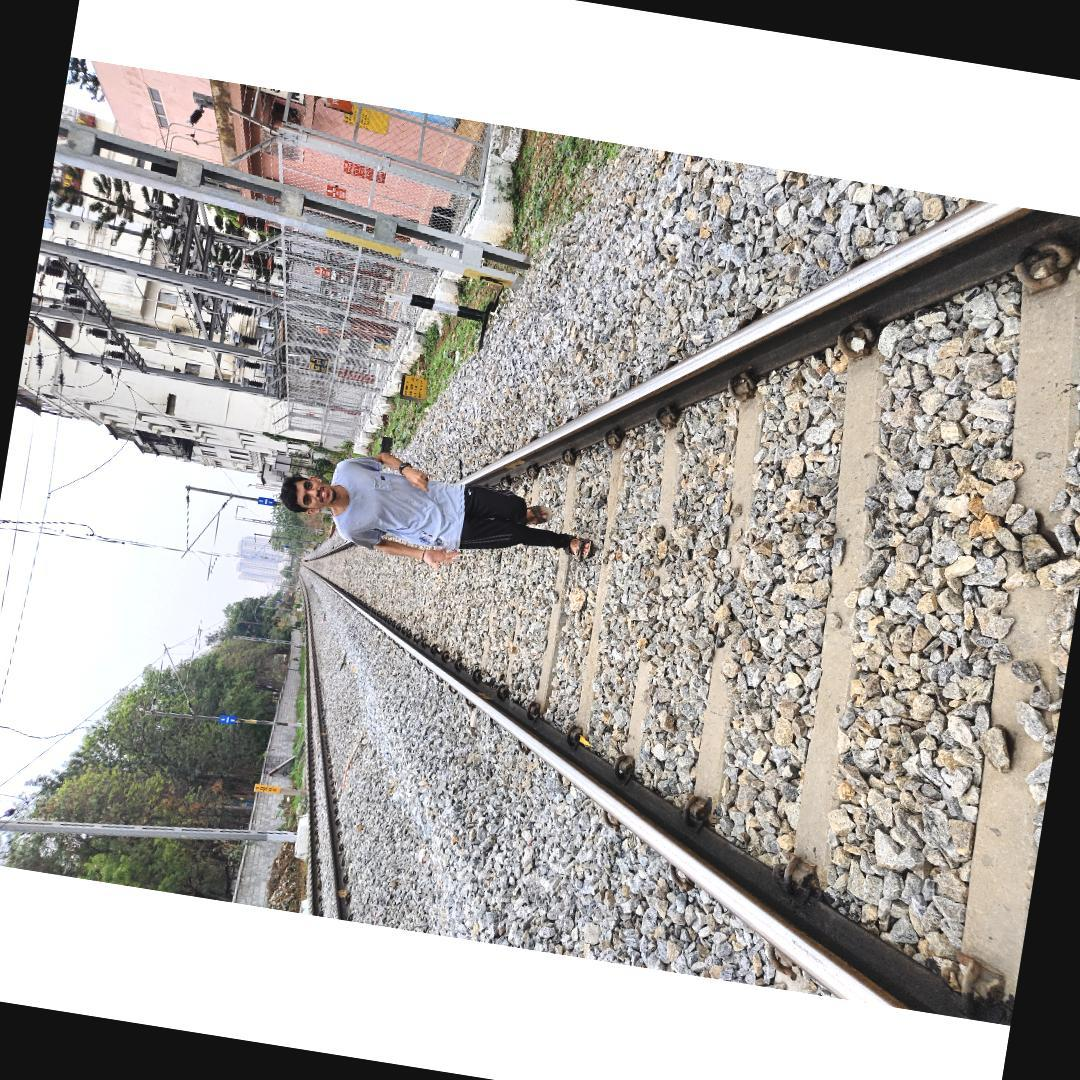standing: (271, 434, 603, 591)
track: (296, 198, 1080, 1017)
